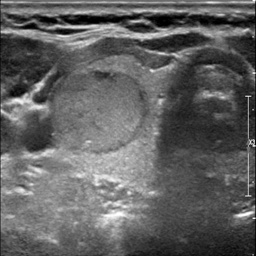mass: (50, 71, 143, 149)
